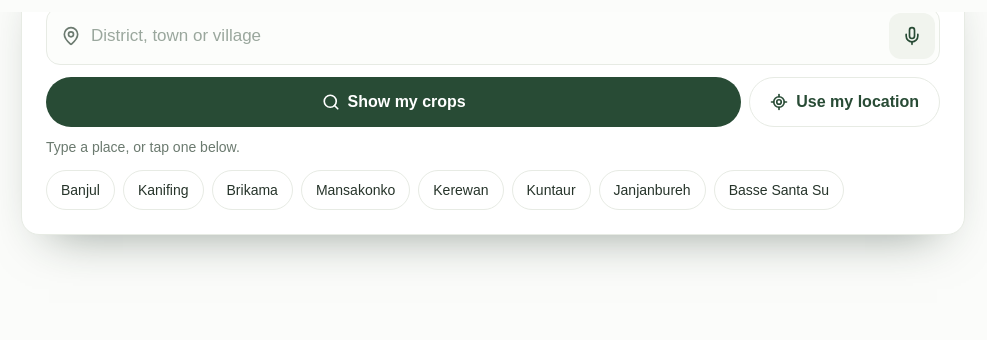
Scenario: LocationForm › uses the browser location after a place search fails
The width and height of the screenshot is (987, 340).
Type "unknown village" into the dropdown labelled "Where is your field?". click: (485, 36)
box: [89,12,881,60]
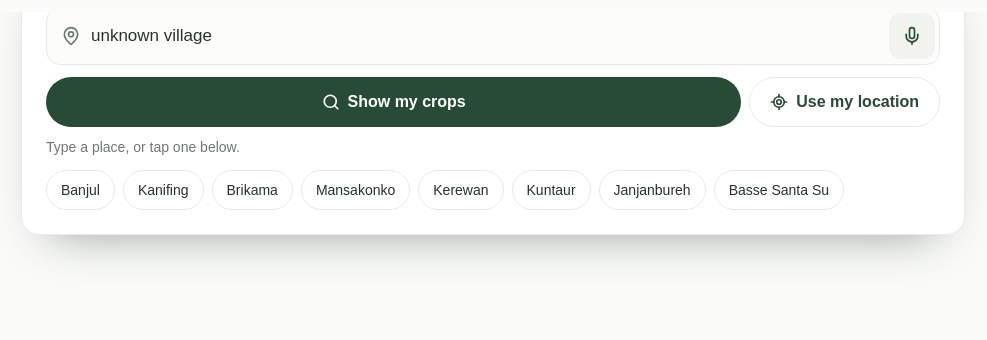
Click the button "Show my crops". click: (394, 102)
box: [46,77,741,127]
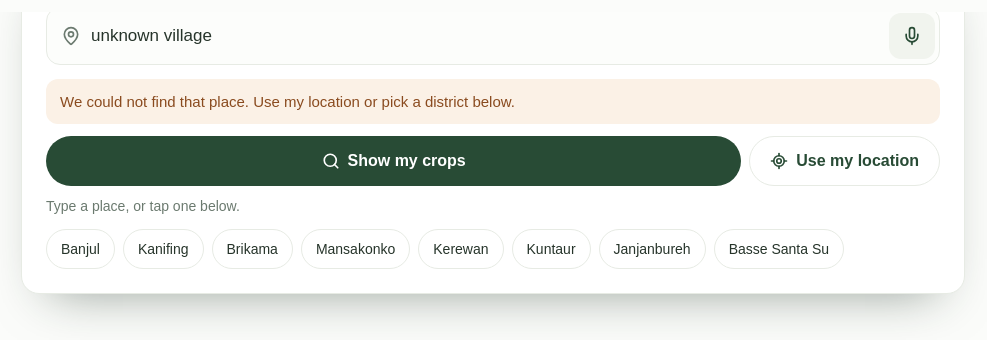
expect the message shows "Use my location": met, box [60,93,515,110]
Click the button "Use my location". click: (845, 161)
box: [749,136,940,186]
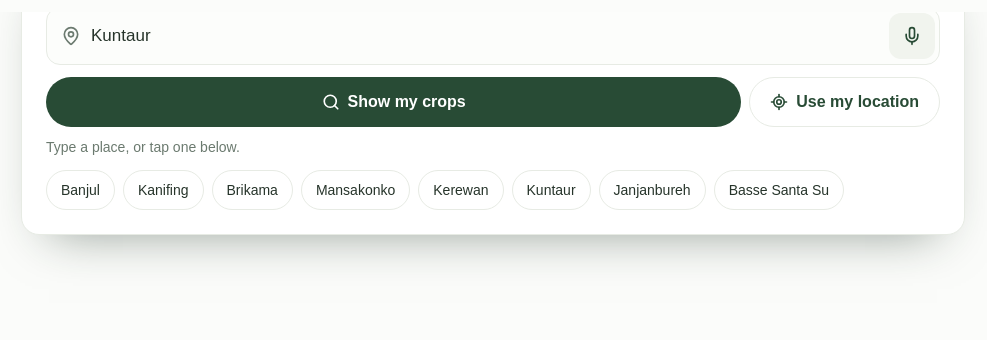
expect the message "We could not find that place. Use my location or pick a district below." is gone: met
expect the dropdown labelled "Where is your field?" holds "Kuntaur": met, box [89,12,881,60]
